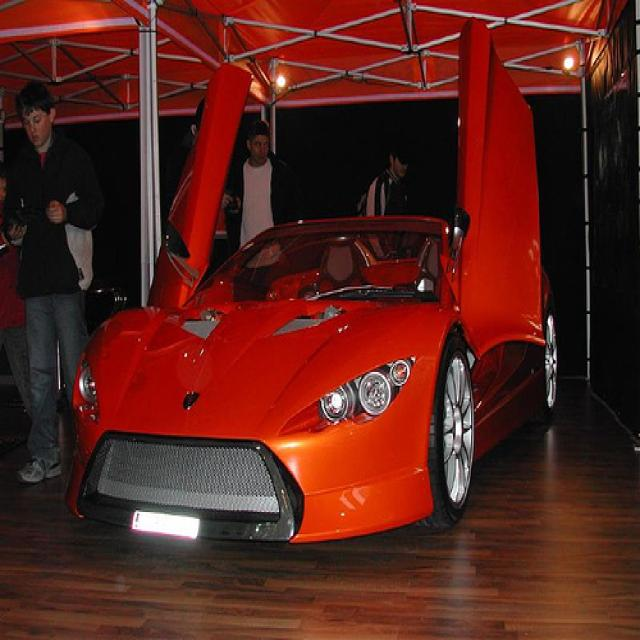light_vehicle: (63, 212, 567, 536)
